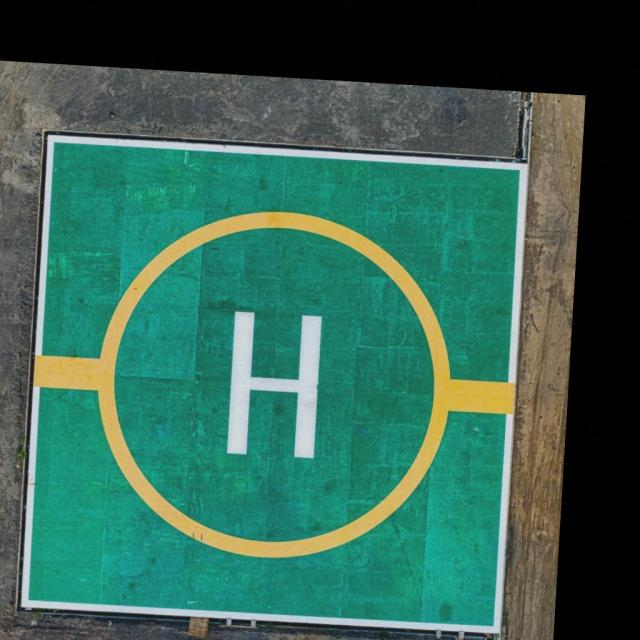helipad: (94, 202, 454, 560)
